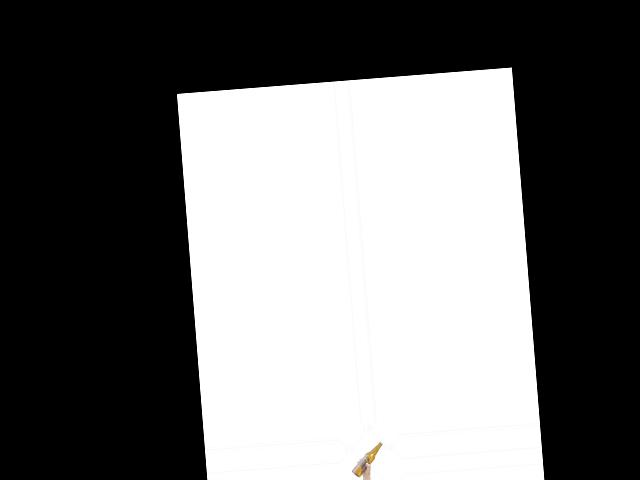beer: (349, 442, 384, 478)
